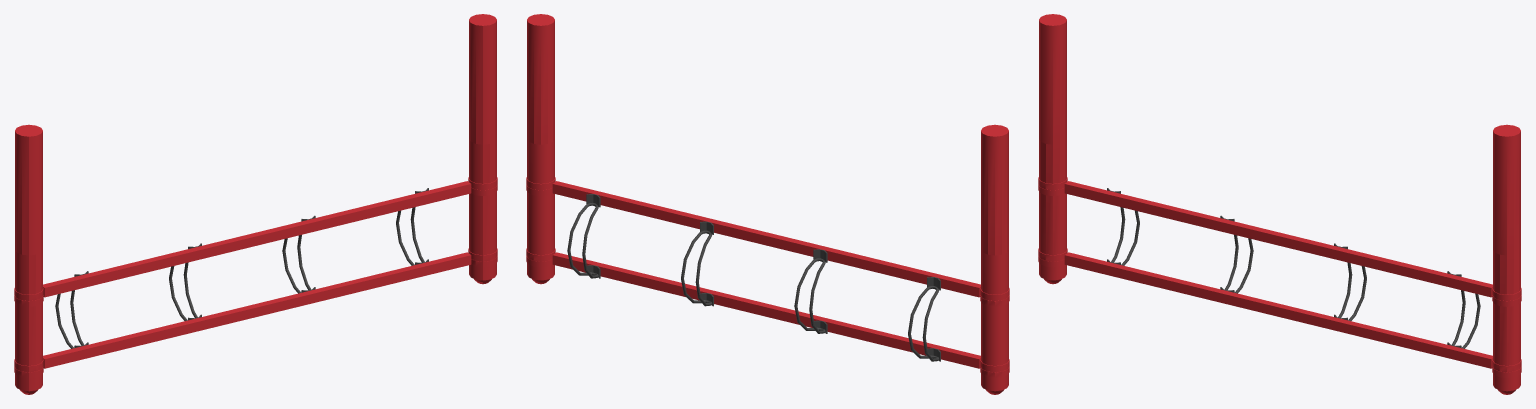
The picture shows the model from 3 angles, left to right: view 1: azimuth 30°, elevation 25°; view 2: azimuth 150°, elevation 25°; view 3: azimuth 330°, elevation 25°; orthographic projection.
Parts seen in each view (by area): view 1: Ñòîéêà, Ñòîéêà0, Ïåðåêëàäèí, Ïåðåêëàäè0, Ïåðåìû÷êà, Ïåðåìû÷êà1, Ïåðåìû÷êà2, Ïåðåìû÷êà0; view 2: Ñòîéêà, Ñòîéêà0, Ïåðåêëàäè0, Ïåðåêëàäèí, Ïåðåìû÷êà2, Ïåðåìû÷êà0, Ïåðåìû÷êà, Ïåðåìû÷êà1; view 3: Ñòîéêà0, Ñòîéêà, Ïåðåêëàäèí, Ïåðåêëàäè0, Ïåðåìû÷êà2, Ïåðåìû÷êà0, Ïåðåìû÷êà, Ïåðåìû÷êà1.
Part boxes in pixels (x1,y1,x2,y2): Ñòîéêà: (15,124,42,390); Ñòîéêà0: (469,14,496,279); Ïåðåêëàäèí: (43,252,471,368); Ïåðåêëàäè0: (43,181,471,297); Ïåðåìû÷êà: (55,271,88,348); Ïåðåìû÷êà1: (282,215,315,293); Ïåðåìû÷êà2: (396,188,428,265); Ïåðåìû÷êà0: (169,243,201,320); Ñòîéêà: (981,124,1008,390); Ñòîéêà0: (527,14,554,279); Ïåðåêëàäè0: (552,181,980,297); Ïåðåêëàäèí: (552,252,980,368); Ïåðåìû÷êà2: (567,194,600,278); Ïåðåìû÷êà0: (794,249,827,333); Ïåðåìû÷êà: (908,277,940,361); Ïåðåìû÷êà1: (681,221,713,306); Ñòîéêà0: (1493,124,1520,390); Ñòîéêà: (1039,14,1066,279); Ïåðåêëàäèí: (1064,252,1492,368); Ïåðåêëàäè0: (1064,181,1492,297); Ïåðåìû÷êà2: (1447,271,1480,348); Ïåðåìû÷êà0: (1220,215,1253,293); Ïåðåìû÷êà: (1107,188,1139,265); Ïåðåìû÷êà1: (1334,243,1366,320).
Bounding box in the file's own units: 211 × 22.58 × 111.
